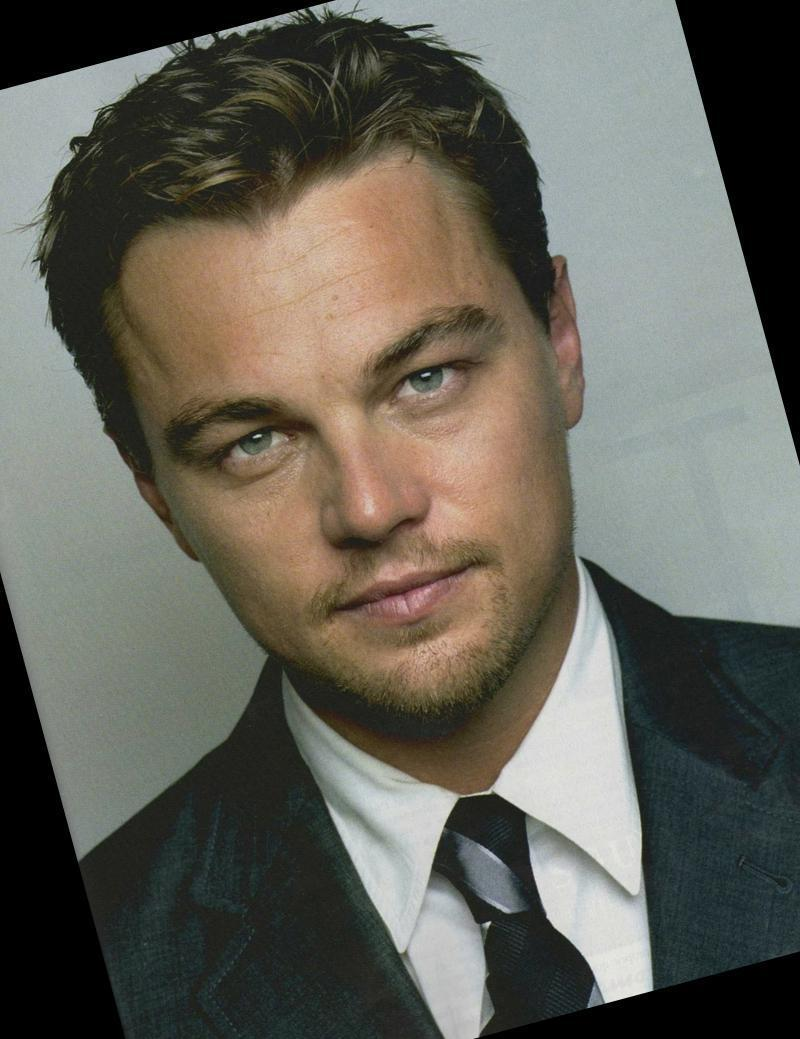Sober: (138, 203, 560, 716)
